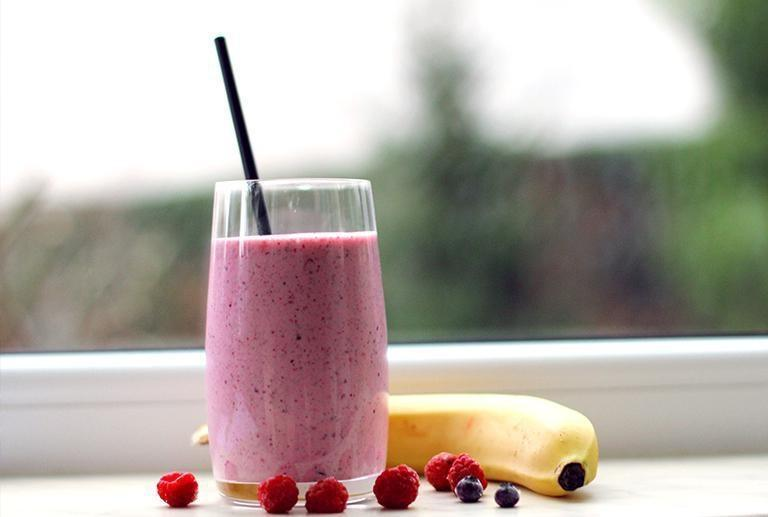glass-normal: (202, 175, 391, 505)
